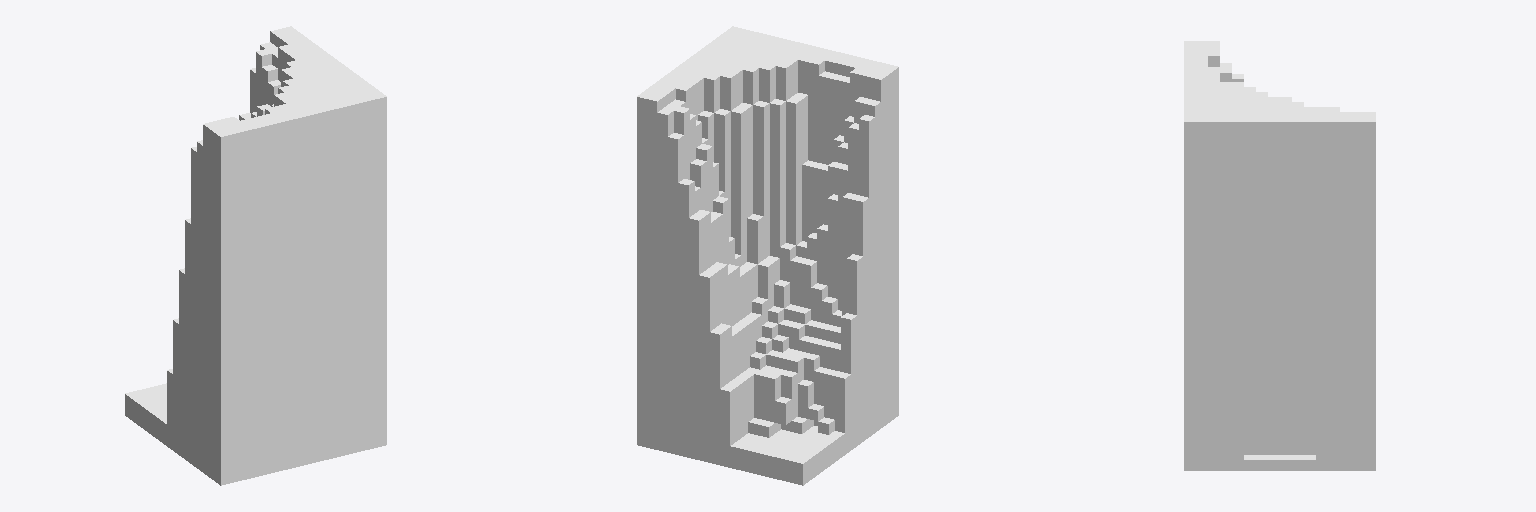
The model's file is Mountain_river_6.obj.
3 renders of one model, left to right at view 1: azimuth 30°, elevation 25°; view 2: azimuth 150°, elevation 25°; view 3: azimuth 270°, elevation 25°, orthographic.
Parts seen in each view (by area): view 1: object 1; view 2: object 1; view 3: object 1.
Boxes of the visible parts, x1=… form: object 1: x1=125, y1=26, x2=386, y2=485; object 1: x1=637, y1=26, x2=898, y2=485; object 1: x1=1184, y1=41, x2=1375, y2=470.
Bounding box in the file's own units: 1.6 × 3.2 × 1.6.